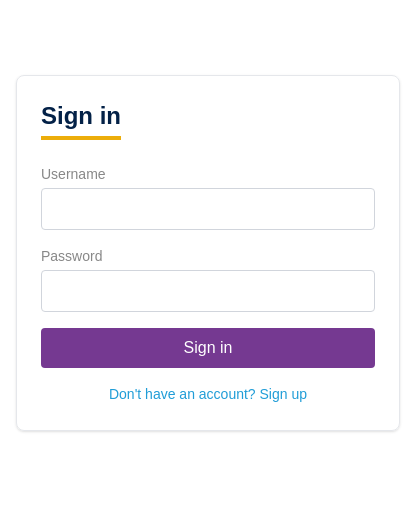
LoginForm › shows an error message when sign up fails
Click the button "Don't have an account? Sign up" at (208, 394), box [41, 384, 375, 404]
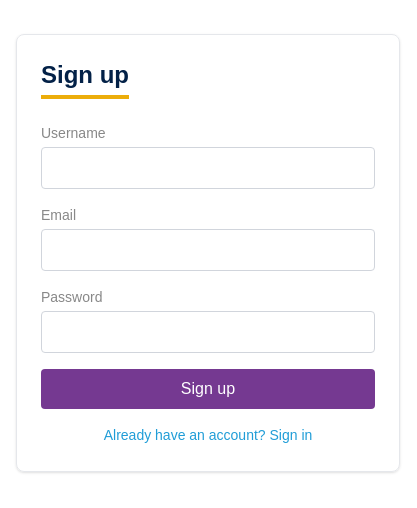
Click the button "Sign up" at (208, 389), box [41, 369, 375, 409]
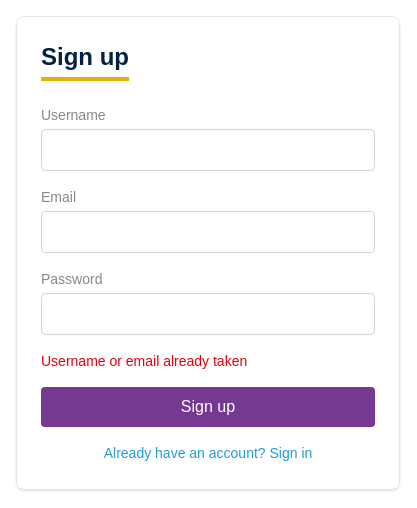
Now the text "Username or email already taken" is shown, box [41, 353, 247, 369]
